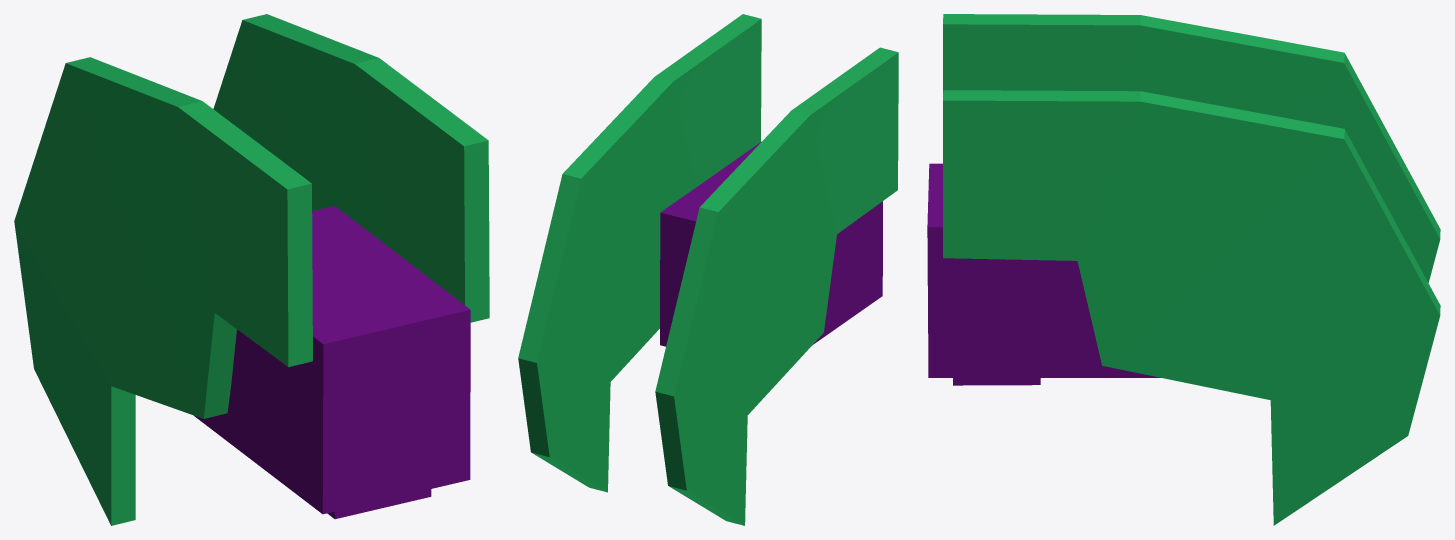
The model's file is part_1_opt_2.obj.
The picture shows the model from 3 angles, left to right: view 1: azimuth 30°, elevation 25°; view 2: azimuth 150°, elevation 25°; view 3: azimuth 270°, elevation 25°; orthographic projection. The views are drawn at different scales.
Parts seen in each view (by area): view 1: Box058, Box056, Box059; view 2: Box058, Box059, Box056; view 3: Box059, Box058, Box056.
Boxes of the visible parts, x1,y1,x2,y2 form: Box058: (14, 57, 312, 525); Box056: (194, 206, 470, 519); Box059: (213, 14, 489, 322); Box058: (655, 47, 898, 525); Box059: (518, 14, 761, 492); Box056: (660, 141, 882, 346); Box059: (943, 90, 1440, 525); Box058: (943, 14, 1440, 282); Box056: (927, 163, 1160, 385).
Size of the model in its own units: 31.24 by 67.07 by 74.11.
